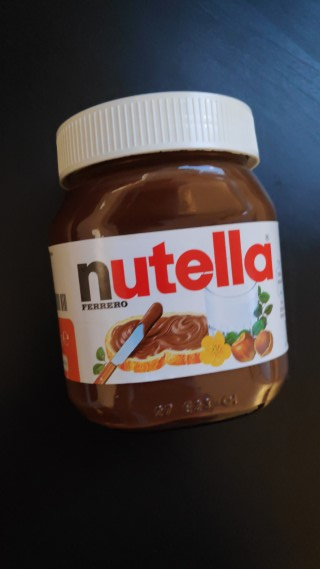nutella: (43, 88, 293, 433)
